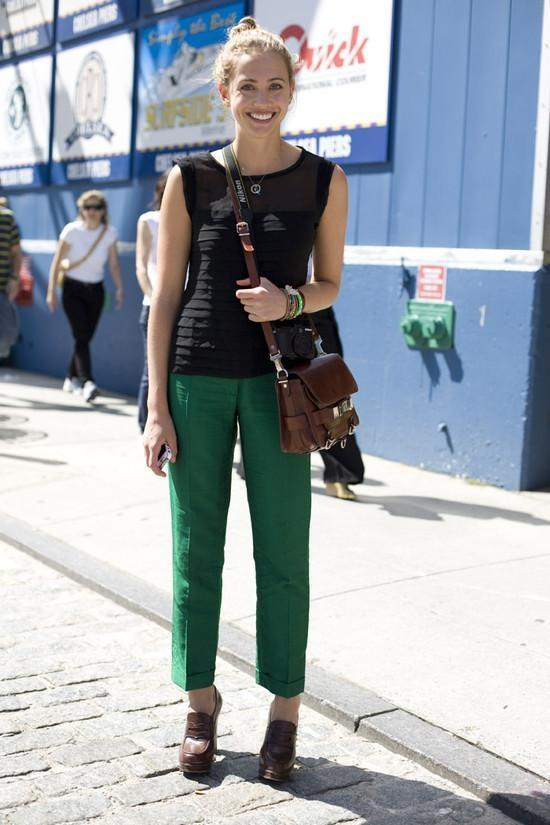Tshirt: (166, 143, 337, 374)
pants: (167, 365, 312, 698)
